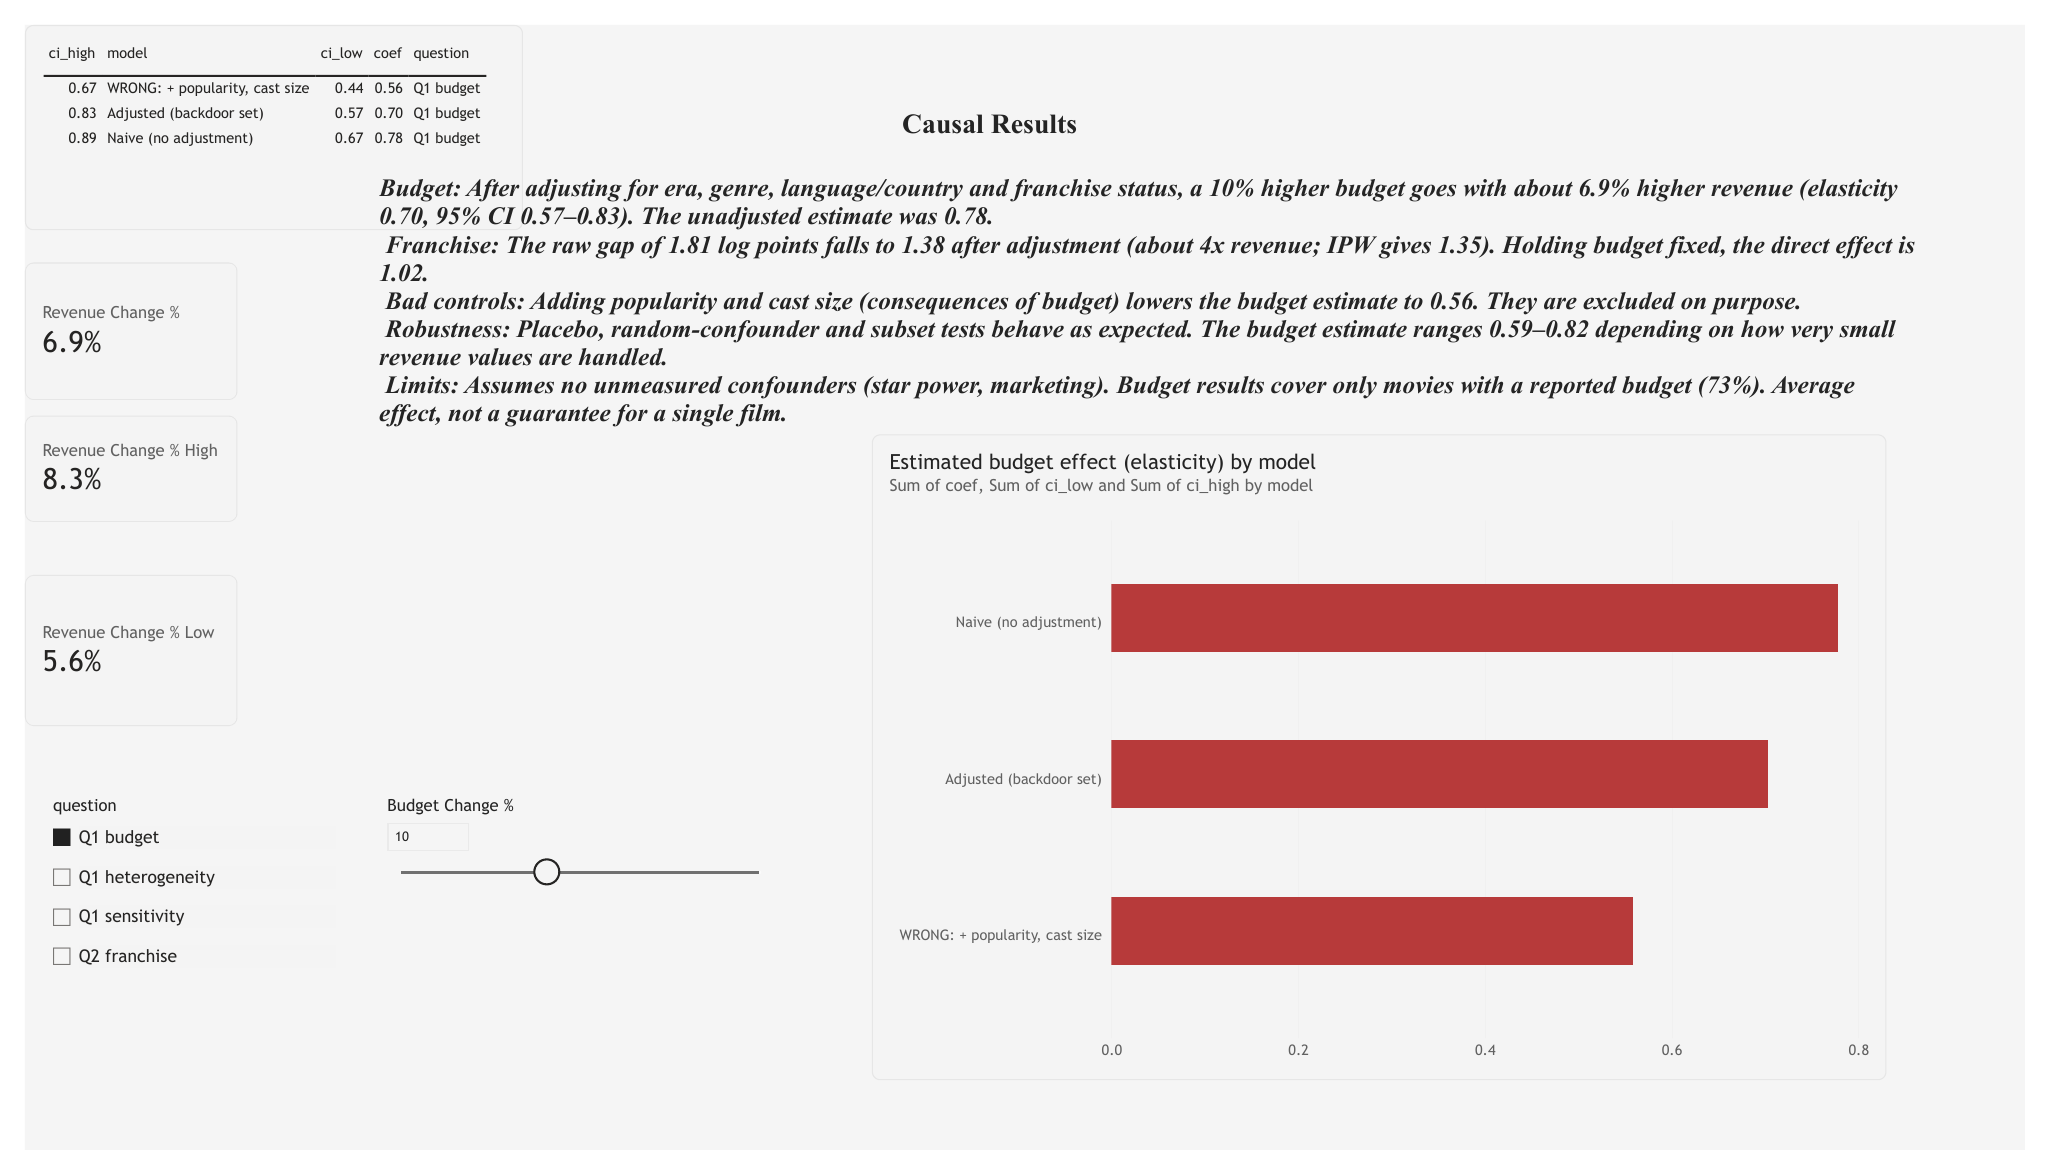

Layout of this report page (visuals, bound fields, positions):
{"tool":"powerbi","page":{"name":"Causal results1","canvas":[1920,1080],"ordinal":2},"visuals":[{"type":"tableEx","fields":{"Values":["causal_results.ci_high","causal_results.model","causal_results.ci_low","causal_results.coef","causal_results.question"]},"box":[0,0,477.9,197.1],"z":0},{"type":"slicer","fields":{"Values":["causal_results.question"]},"box":[19.2,739.5,280,220],"z":1000},{"type":"cardVisual","fields":{"Data":["causal_results.Revenue Change %"]},"box":[0,228.5,204.3,131.4],"z":2000},{"type":"cardVisual","fields":{"Data":["causal_results.Revenue Change % High"]},"box":[0,375,204,102],"z":3000},{"type":"cardVisual","fields":{"Data":["causal_results.Revenue Change % Low"]},"box":[0,528,204,145],"z":4000},{"type":"slicer","fields":{"Values":["Budget Change %.Budget Change %"]},"box":[340,740,382.5,172.5],"z":5000},{"type":"clusteredBarChart","title":"Estimated budget effect (elasticity) by model","fields":{"Category":["causal_results.model"],"Y":["Sum(causal_results.coef)"]},"box":[813.3,393.3,973.3,620],"z":5001},{"type":"textbox","box":[1602.5,0,317.5,197],"z":5002},{"type":"textbox","box":[842.2,80,1077.8,297.8],"z":5003},{"type":"textbox","box":[340,144.4,1477.8,917.8],"z":5004}]}

Visuals, with their boxes in screenshot pixels (x1, y1, x2, y2), scaled from the page's 1920x1080 canvas onto the 2050x1175 screenshot:
tableEx - causal_results.ci_high x causal_results.model: pyautogui.locateOnScreen(0, 0, 510, 214)
slicer - causal_results.question: pyautogui.locateOnScreen(20, 805, 319, 1044)
cardVisual - causal_results.Revenue Change %: pyautogui.locateOnScreen(0, 249, 218, 392)
cardVisual - causal_results.Revenue Change % High: pyautogui.locateOnScreen(0, 408, 218, 519)
cardVisual - causal_results.Revenue Change % Low: pyautogui.locateOnScreen(0, 574, 218, 732)
slicer - Budget Change %.Budget Change %: pyautogui.locateOnScreen(363, 805, 771, 993)
"Estimated budget effect (elasticity) by model" clusteredBarChart: pyautogui.locateOnScreen(868, 428, 1908, 1102)
textbox: pyautogui.locateOnScreen(1711, 0, 2049, 214)
textbox: pyautogui.locateOnScreen(899, 87, 2049, 411)
textbox: pyautogui.locateOnScreen(363, 157, 1941, 1156)
